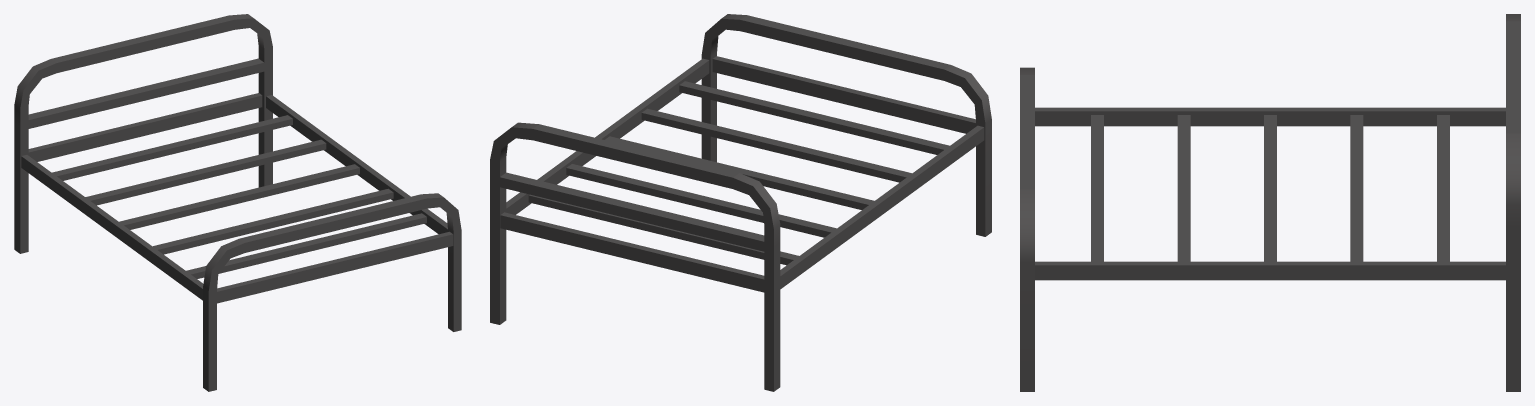
The model's file is SM_Prop_Bed_Frame_Large_01.fbx.
3 views of the same model, side by side, from view 1: azimuth 30°, elevation 25°; view 2: azimuth 150°, elevation 25°; view 3: azimuth 270°, elevation 25° (orthographic). The views are drawn at different scales.
Visible parts, largest first — view 1: SM_Prop_Bed_Frame_Large_01; view 2: SM_Prop_Bed_Frame_Large_01; view 3: SM_Prop_Bed_Frame_Large_01.
Part boxes in pixels (x1=…): SM_Prop_Bed_Frame_Large_01: x1=14, y1=14, x2=461, y2=391; SM_Prop_Bed_Frame_Large_01: x1=490, y1=14, x2=991, y2=391; SM_Prop_Bed_Frame_Large_01: x1=1020, y1=14, x2=1520, y2=391.
Size of the model in its own units: 168 by 116 by 224.
